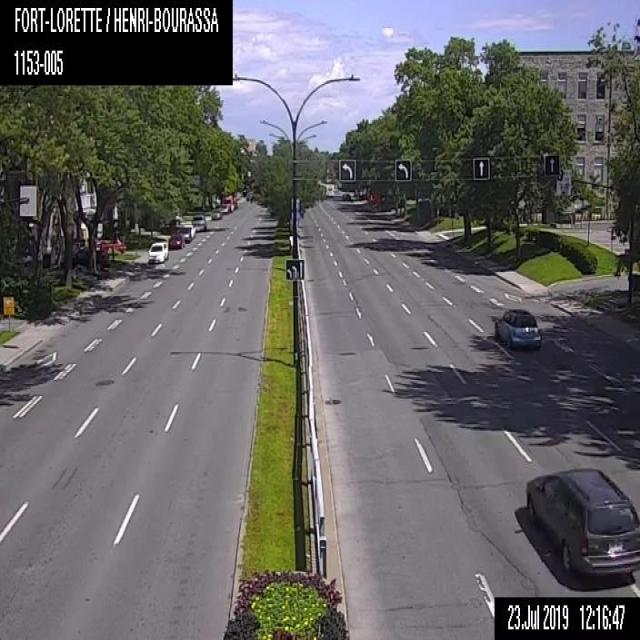bus: (324, 181, 334, 199)
vehicle: (523, 466, 639, 578), (494, 304, 541, 352), (59, 247, 109, 269), (146, 240, 168, 264), (168, 232, 183, 248), (191, 213, 205, 230), (178, 225, 191, 241), (223, 194, 233, 212), (182, 223, 195, 236), (209, 211, 220, 220)
